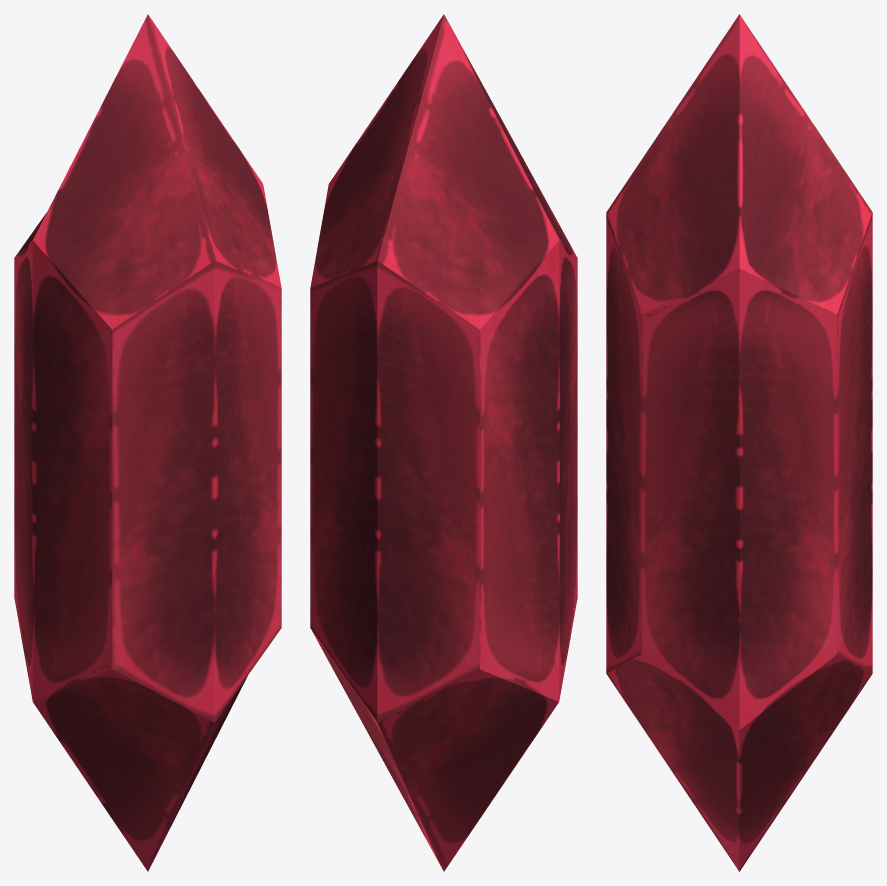
The model's file is Crystal.fbx.
3 views of the same model, side by side, from view 1: azimuth 30°, elevation 25°; view 2: azimuth 150°, elevation 25°; view 3: azimuth 270°, elevation 25° (orthographic).
Parts seen in each view (by area): view 1: pCube682; view 2: pCube682; view 3: pCube682.
Part boxes in pixels (bbox=[...]): pCube682: bbox=[14, 14, 281, 871]; pCube682: bbox=[310, 14, 577, 871]; pCube682: bbox=[606, 14, 872, 871].
Size of the model in its own units: 0.5222 by 1.86 by 0.5222.
